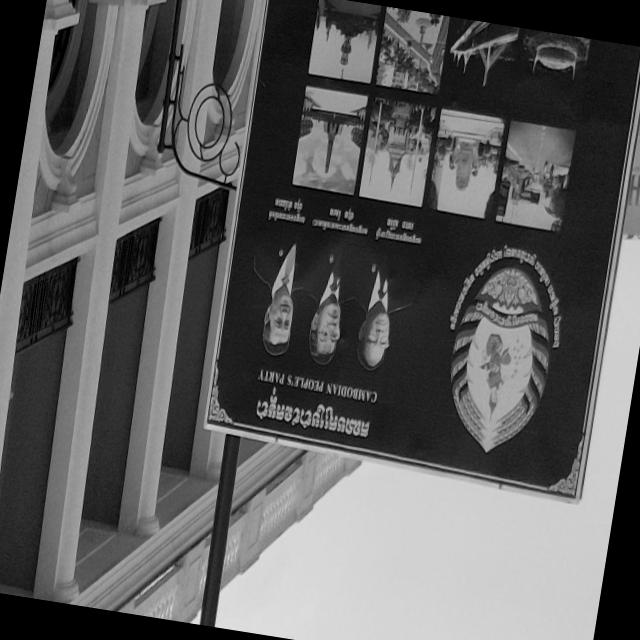Yolov11_80vkh: (245, 379, 383, 446)
